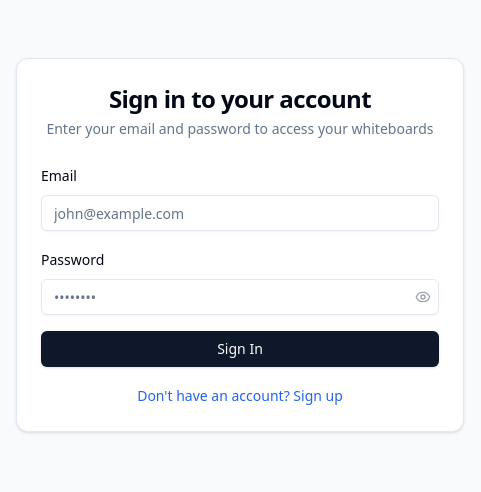
Test case: AuthForm › switches to sign up and shows the name field
Expected: the heading "Sign in to your account" is shown, [109,82,371,115]
Click the button "Don't have an account? Sign up": (240, 396) [137,386,343,406]
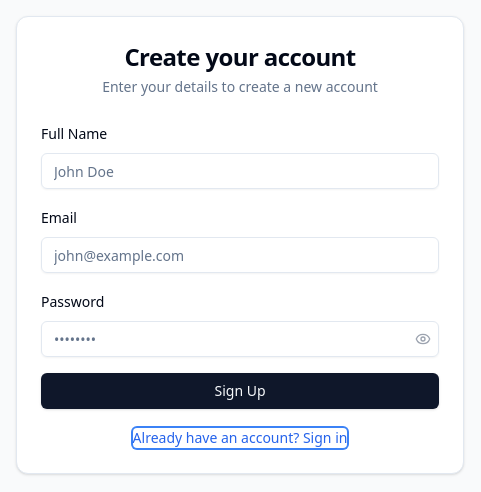
Expected: the heading "Create your account" is shown, [124,40,356,73]
Expected: the field labelled "Full Name" is shown, [41,153,439,189]
